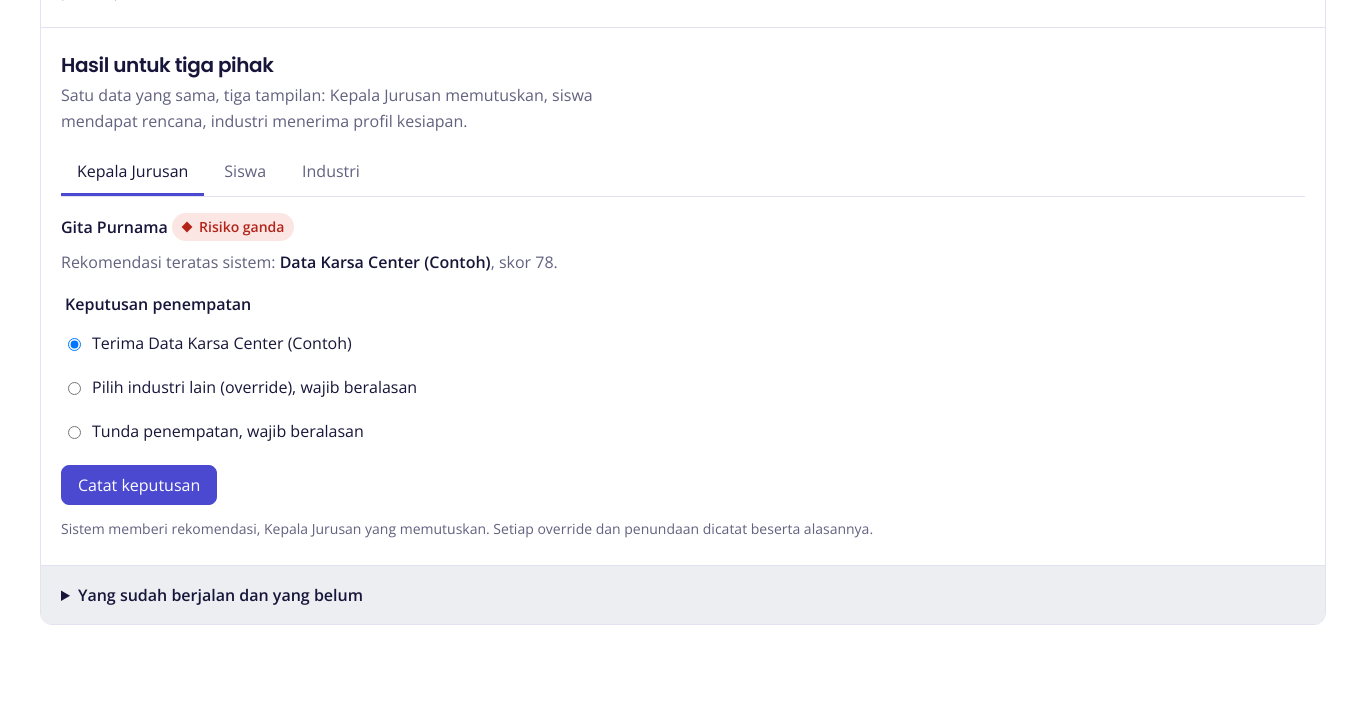
panggung demo: interaksi setelah selesai › keputusan Kepala Jurusan: override tanpa alasan ditolak, dengan alasan tercatat
(page scrolled)
Click the radio button labelled "Pilih industri lain (override), wajib beralasan".
click(74, 389)  # box [68, 382, 81, 396]
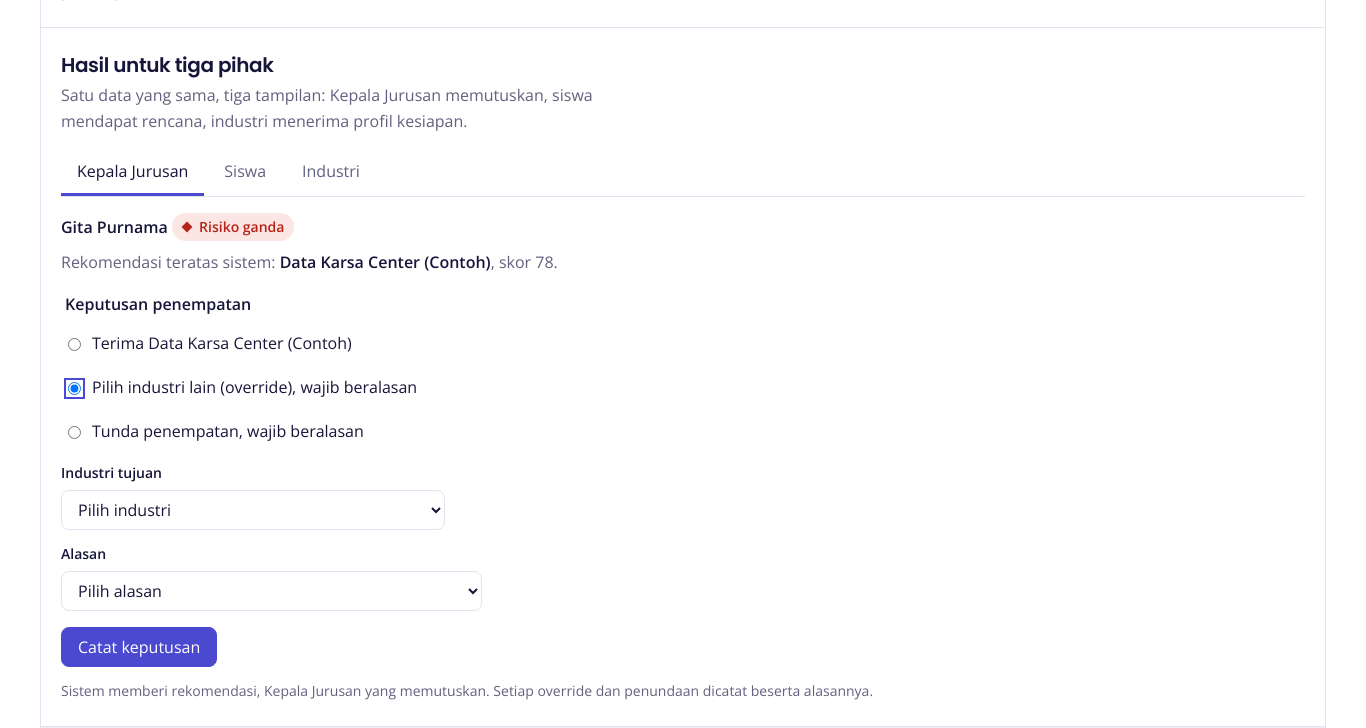
Click the button "Catat keputusan".
click(139, 647)  # box [61, 627, 217, 667]
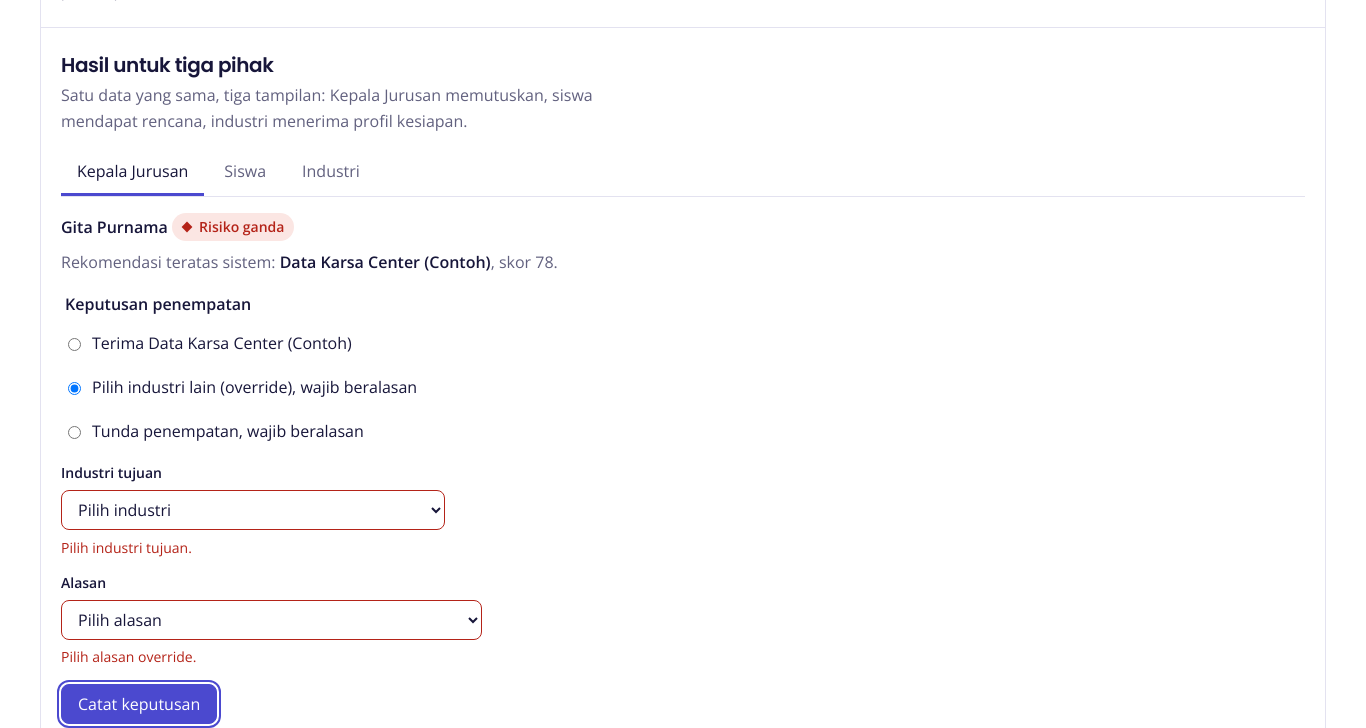
Select "Siaran Lintas Daerah (Contoh)" in the dropdown labelled "Industri tujuan" at x=253, y=510, box [61, 490, 445, 530]
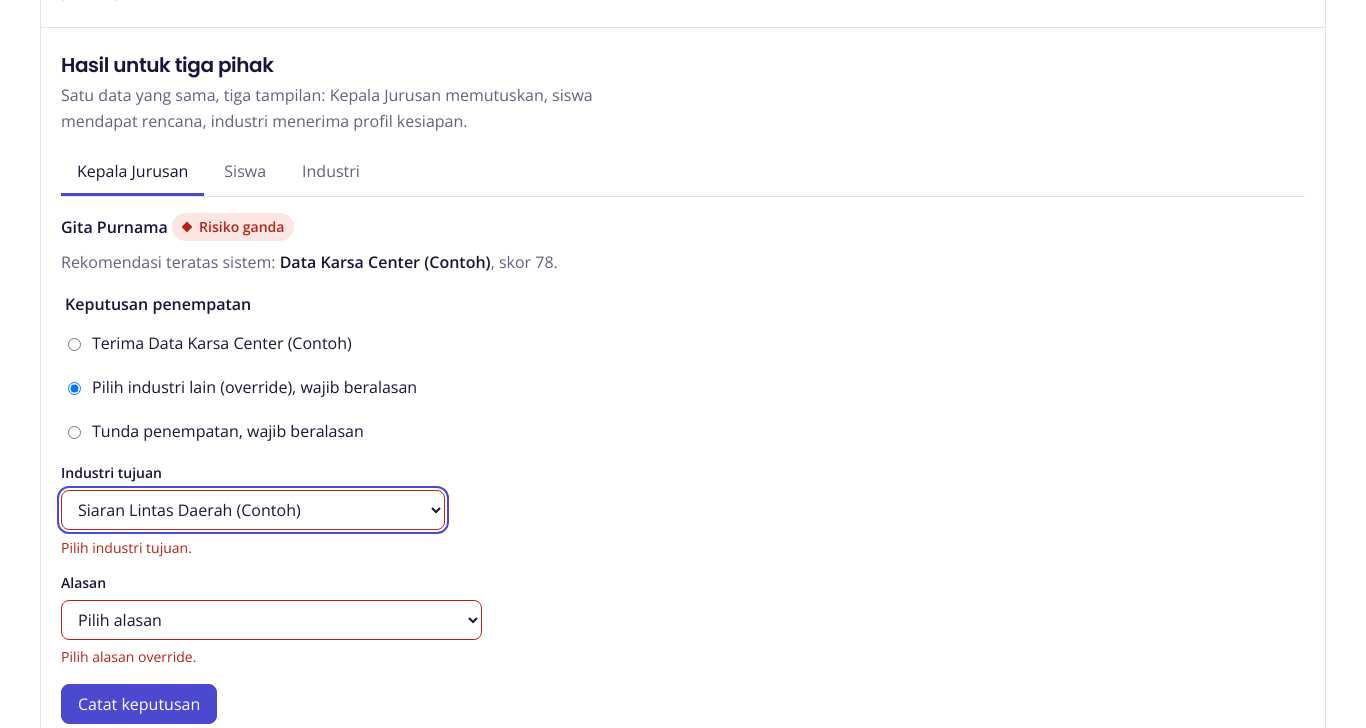
Select "Hubungan baik sekolah dengan industri" in the dropdown labelled "Alasan" at x=272, y=620, box [61, 600, 482, 640]
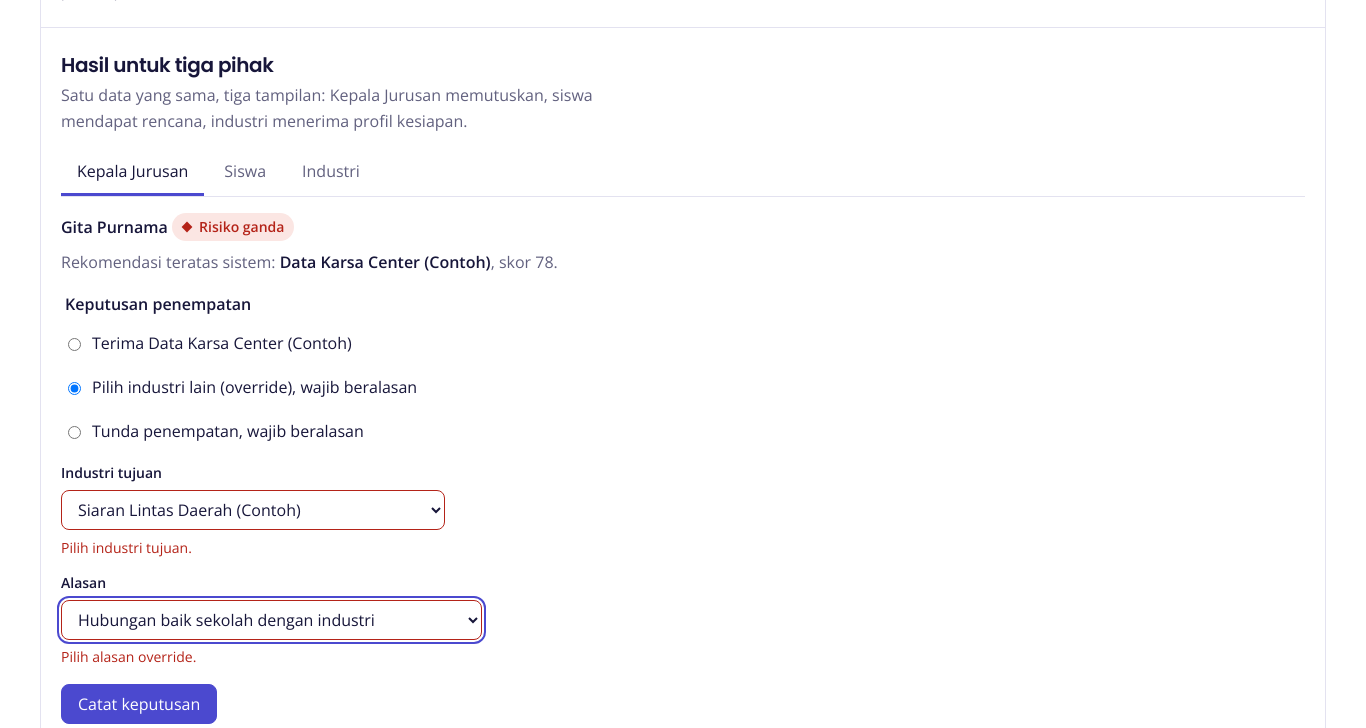
Click the button "Catat keputusan".
click(139, 704)  # box [61, 684, 217, 724]
(page scrolled)
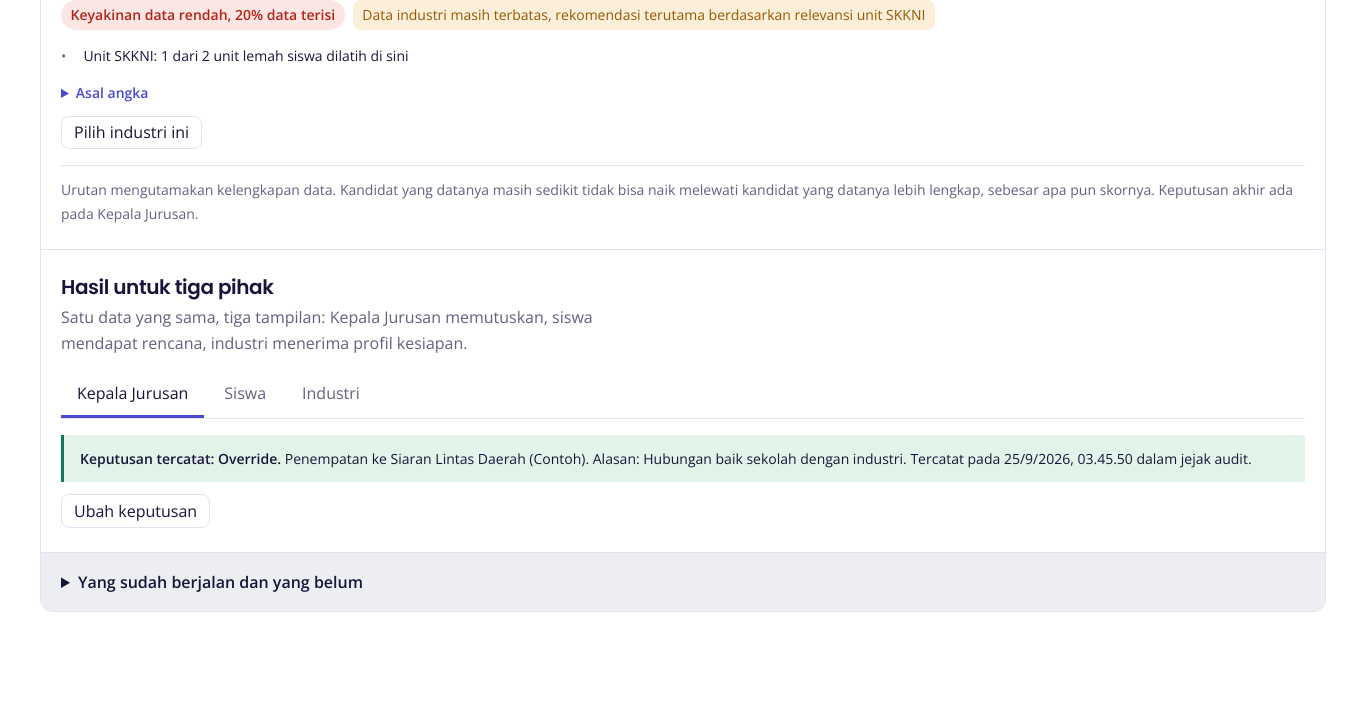
Expected: the text "Keputusan tercatat: Override." is shown, [80, 449, 281, 468]
